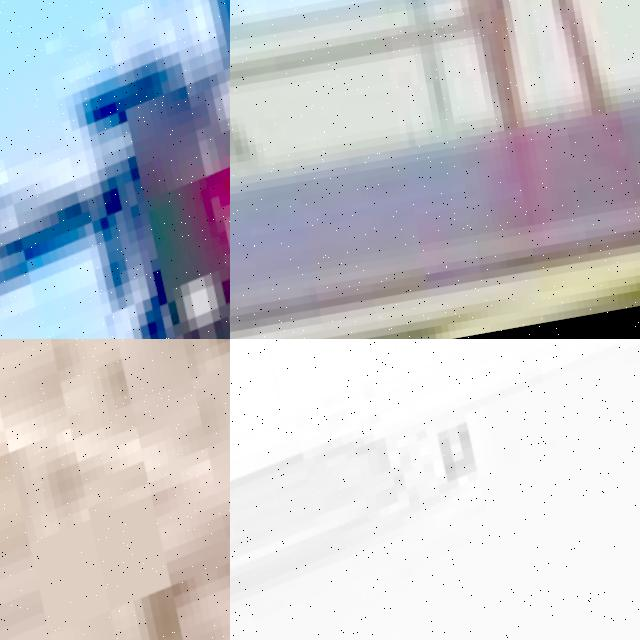0: (0, 0, 230, 339), (0, 339, 230, 640)
drone: (230, 339, 640, 640)
